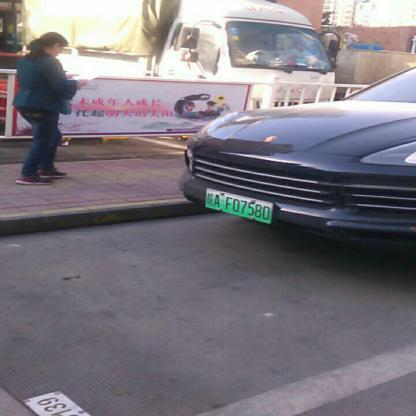lp: (205, 189, 273, 224)
